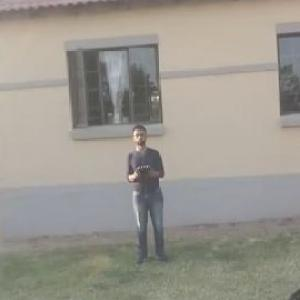follow: (125, 118, 171, 270)
null: (270, 278, 300, 299)
